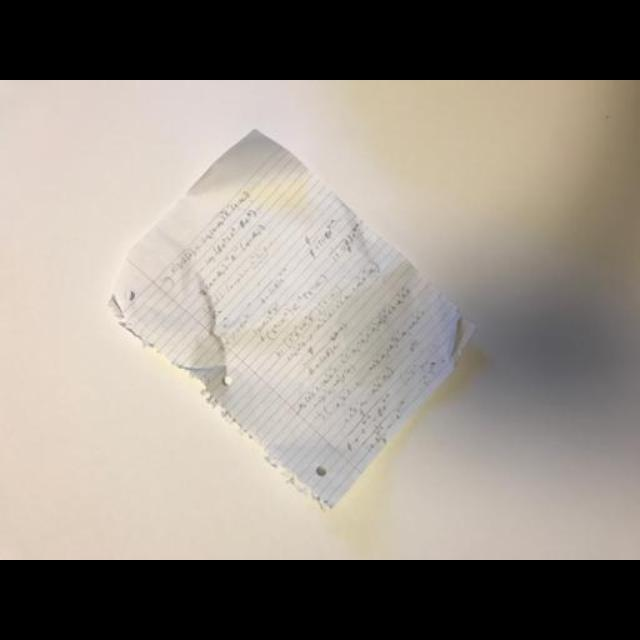papel: (118, 127, 472, 511)
